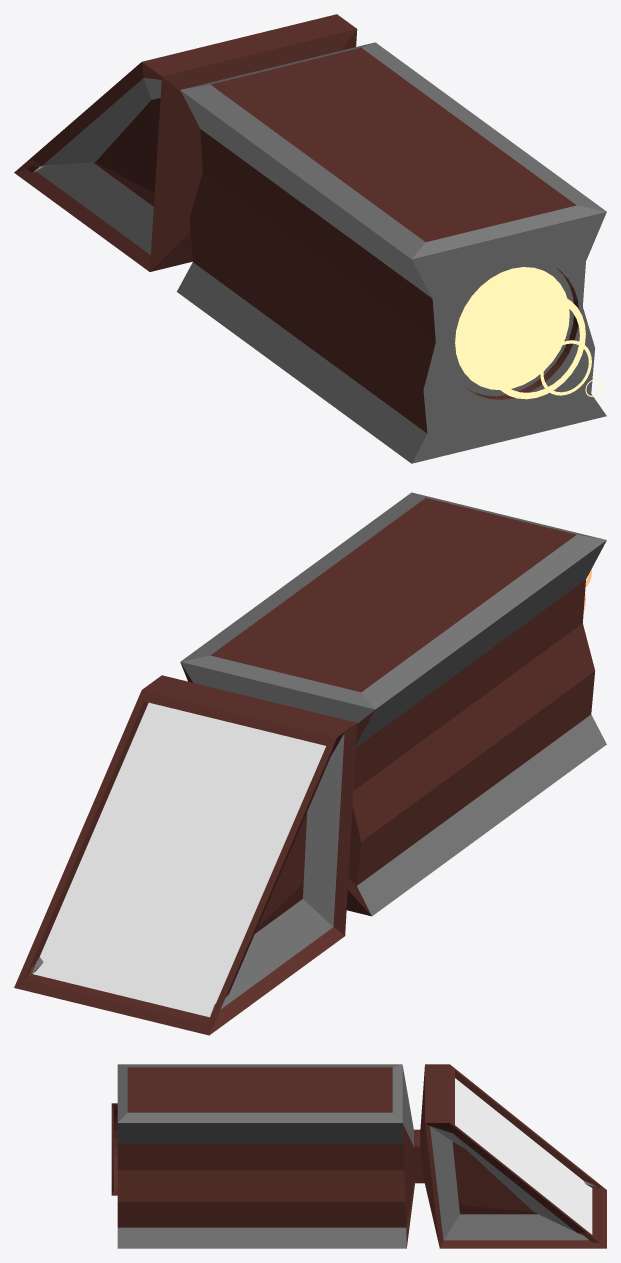
Rendered from train.glb.
The picture shows the model from 3 angles, top to bottom: view 1: azimuth 30°, elevation 25°; view 2: azimuth 150°, elevation 25°; view 3: azimuth 270°, elevation 25°; orthographic projection. The views are drawn at different scales.
Visible parts, largest first — view 1: Train; view 2: Train; view 3: Train.
Boxes of the visible parts, x1,y1,x2,y2 form: Train: (14,14,606,463); Train: (14,492,606,1035); Train: (111,1064,606,1248).
Size of what is drawn, in the model's own units: 3 by 3.09 by 12.82.
